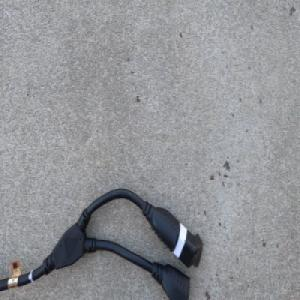Wire: (0, 187, 204, 300)
